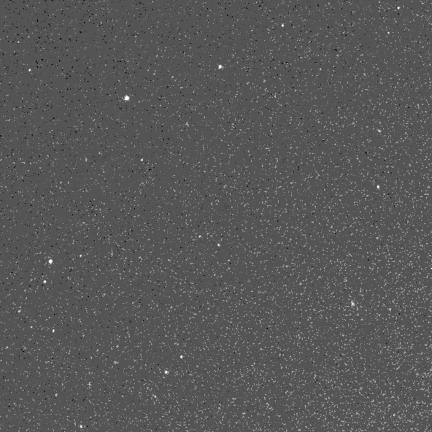blob: (351, 301, 356, 307), (125, 95, 129, 100), (219, 65, 223, 69), (49, 259, 52, 264), (181, 355, 184, 359), (282, 24, 285, 28), (165, 370, 168, 374), (377, 185, 380, 189), (28, 69, 32, 72), (378, 130, 382, 133), (44, 281, 47, 284), (218, 244, 221, 247), (53, 330, 55, 333)
